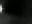person: (1, 5, 4, 15)
